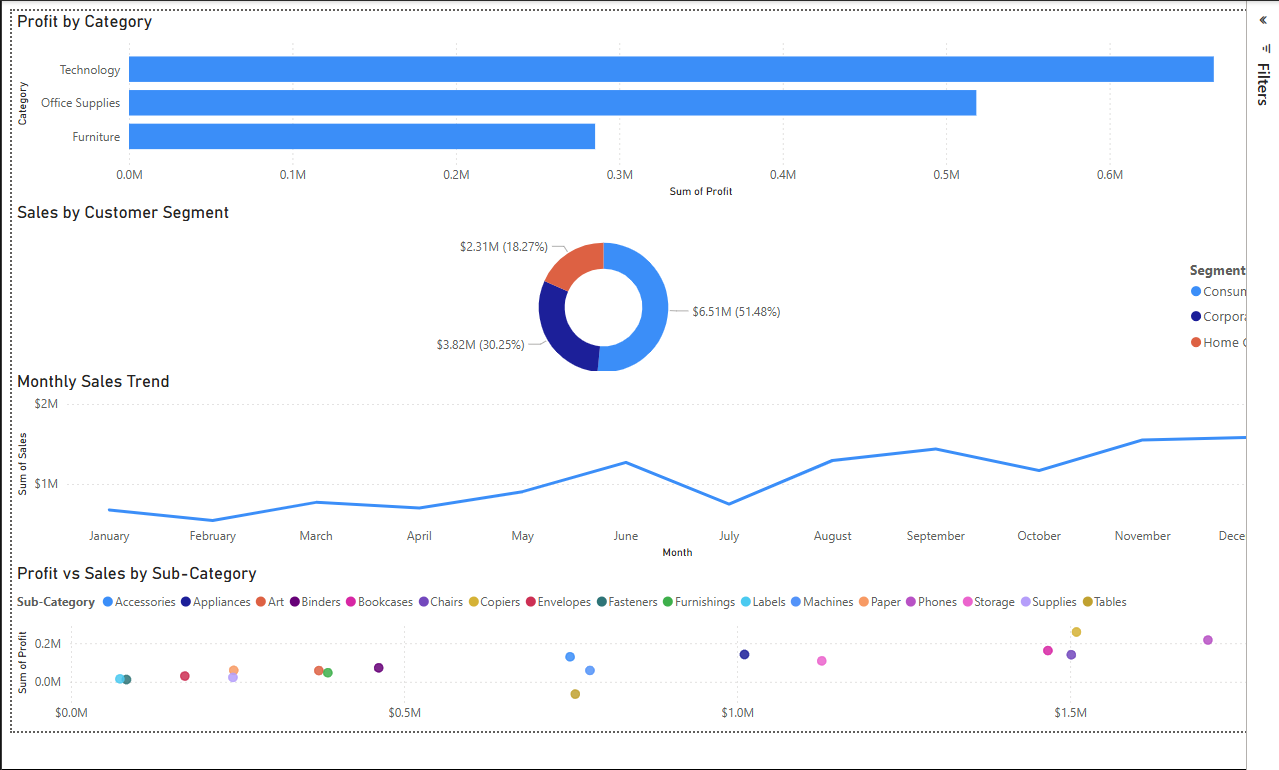

The dashboard page shown, as its layout file describes it:
{"tool":"powerbi","page":{"name":"Product Analysis","canvas":[1280,720],"ordinal":1},"visuals":[{"type":"clusteredBarChart","title":"Profit by Category","fields":{"Category":["cleaned_sales_data.Category"],"Y":["Sum(cleaned_sales_data.Profit)"]},"box":[0,0,1280,191.4],"z":0},{"type":"donutChart","title":"Sales by Customer Segment","fields":{"Category":["cleaned_sales_data.Segment"],"Y":["Sum(cleaned_sales_data.Sales)"]},"box":[0,191.4,1280,191.4],"z":1},{"type":"lineChart","title":"Monthly Sales Trend","fields":{"Category":["cleaned_sales_data.Order Date.Variation.Date Hierarchy.Month"],"Y":["Sum(cleaned_sales_data.Sales)"]},"box":[0,360.1,1280,191.4],"z":2},{"type":"scatterChart","title":"Profit vs Sales by Sub-Category","fields":{"X":["Sum(cleaned_sales_data.Sales)"],"Y":["Sum(cleaned_sales_data.Profit)"],"Series":["cleaned_sales_data.Sub-Category"]},"box":[0,551.5,1280,168.7],"z":3}]}

Visuals, with their boxes on the page's 1280x720 design canvas (x1, y1, x2, y2). These are canvas units, not pixel positions in the 1279x770 screenshot, which may show the page scaled, cropped or inside an application window:
"Profit by Category" clusteredBarChart: left=0, top=0, right=1280, bottom=191
"Sales by Customer Segment" donutChart: left=0, top=191, right=1280, bottom=383
"Monthly Sales Trend" lineChart: left=0, top=360, right=1280, bottom=552
"Profit vs Sales by Sub-Category" scatterChart: left=0, top=552, right=1280, bottom=720
